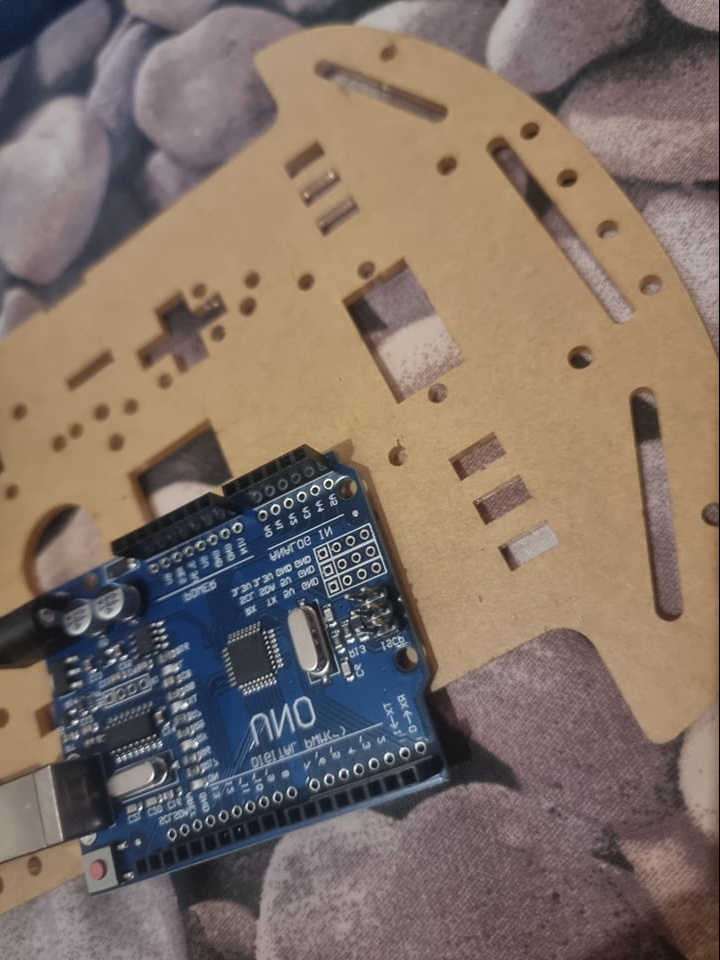UNO R3: (1, 444, 455, 893)
